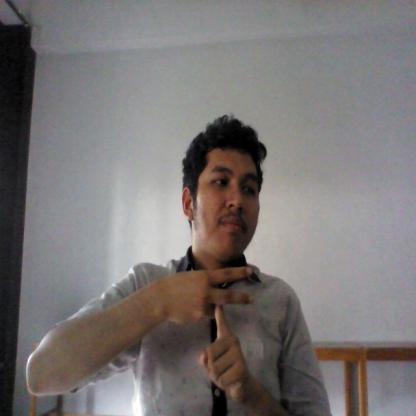F: (169, 265, 258, 400)
